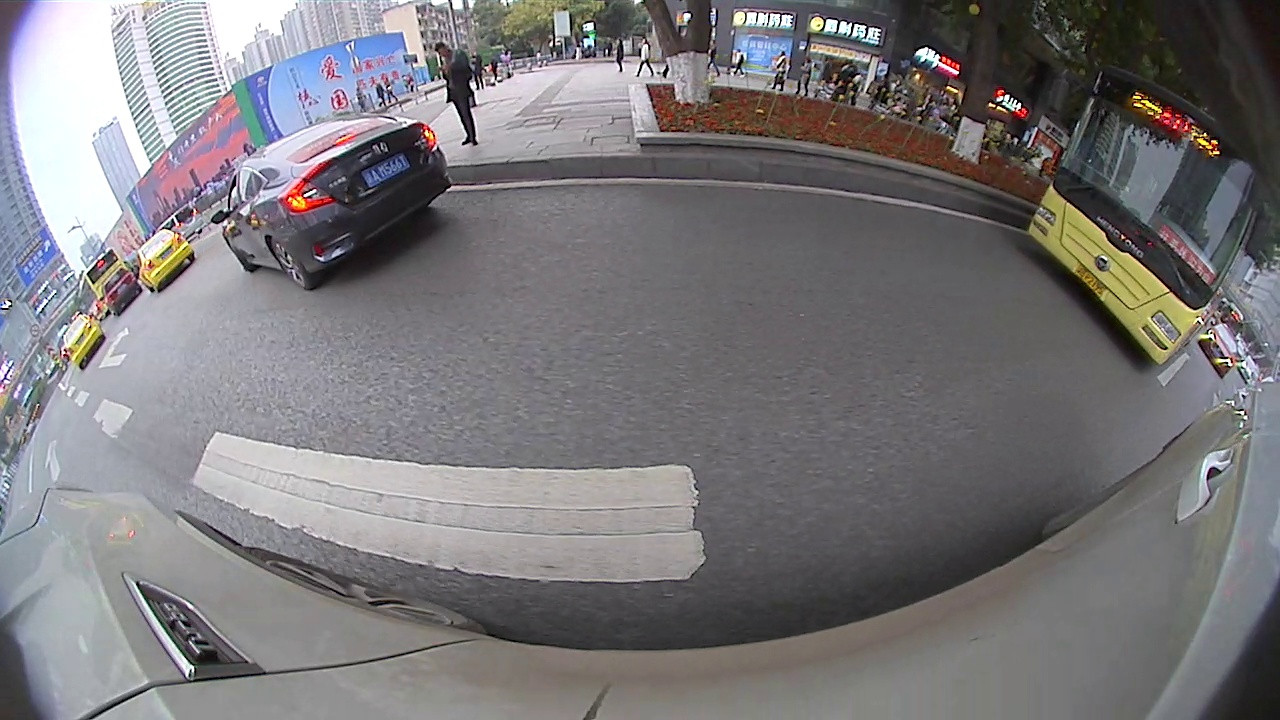bus: (1023, 54, 1272, 369)
car: (210, 106, 455, 290), (134, 224, 201, 294), (54, 310, 111, 371), (1198, 319, 1247, 378)
person: (430, 39, 485, 154)
rear: (265, 235, 316, 290)
